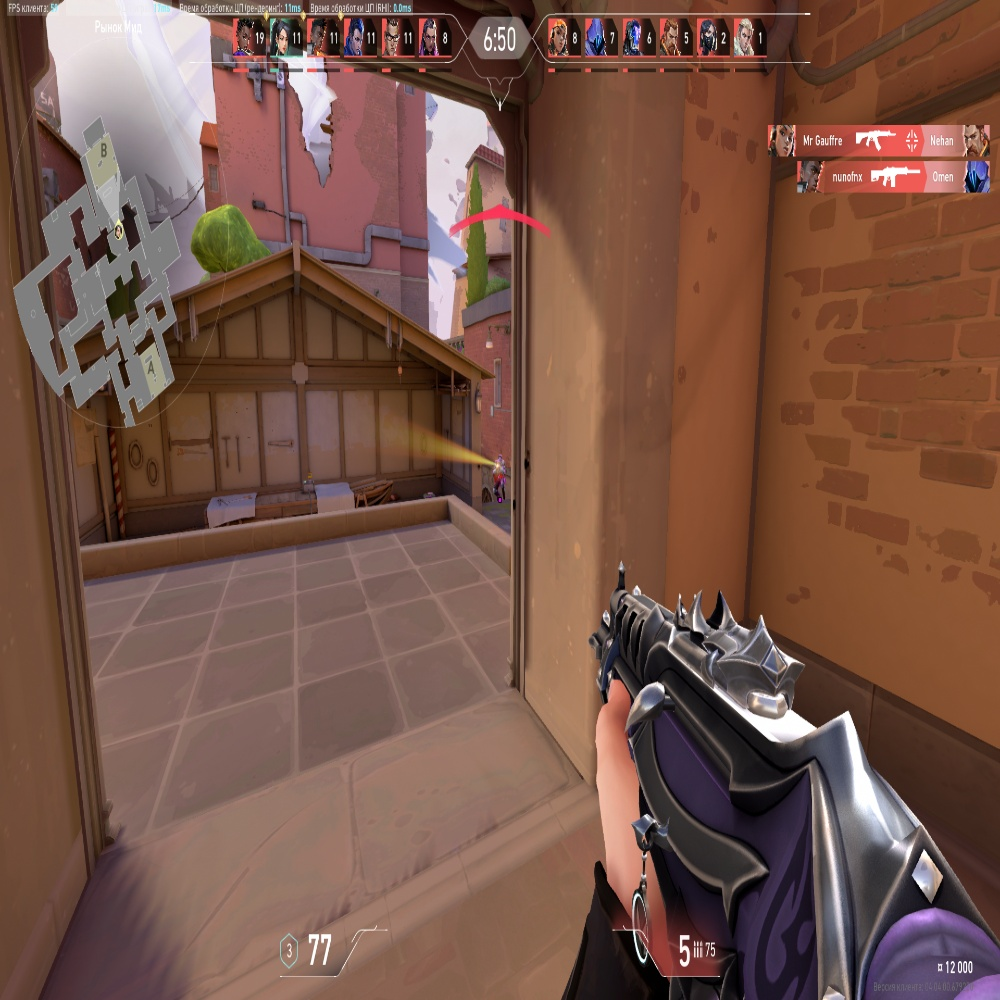body: (494, 462, 505, 478)
head: (497, 455, 502, 463)
